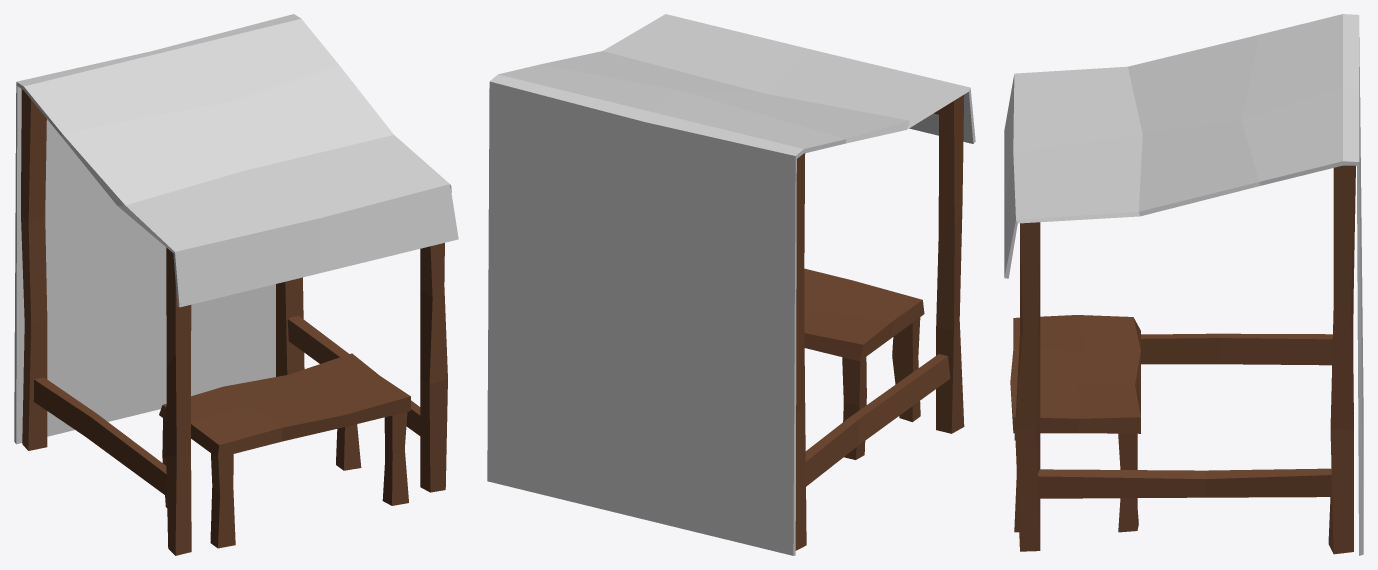
The model's file is merchant_stall.glb.
3 renders of one model, left to right at view 1: azimuth 30°, elevation 25°; view 2: azimuth 150°, elevation 25°; view 3: azimuth 270°, elevation 25°, orthographic. The views are drawn at different scales.
Visible parts, largest first — view 1: Cloth, Wood; view 2: Cloth, Wood; view 3: Cloth, Wood.
Part boxes in pixels (left/top/right/bottom): Cloth: left=14, top=14, right=458, bottom=444; Wood: left=21, top=89, right=447, bottom=555; Cloth: left=487, top=14, right=975, bottom=555; Wood: left=795, top=95, right=964, bottom=550; Cloth: left=1004, top=14, right=1363, bottom=555; Wood: left=1010, top=165, right=1355, bottom=554.
Bounding box in the file's own units: 2.37 × 2.95 × 2.44.
